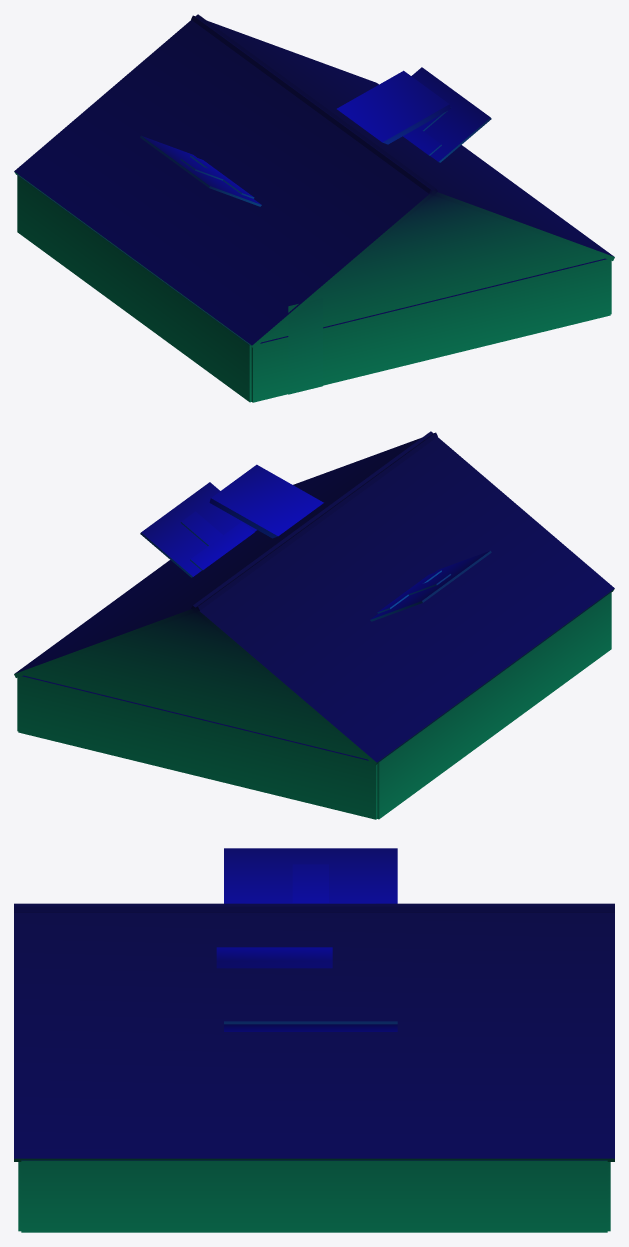
File: htent_damaged.glb
3 renders of one model, top to bottom at view 1: azimuth 30°, elevation 25°; view 2: azimuth 150°, elevation 25°; view 3: azimuth 270°, elevation 25°, orthographic. The views are drawn at different scales.
Parts seen in each view (by area): view 1: lod0; view 2: lod0; view 3: lod0.
Part boxes in pixels (left/top/right/bottom): lod0: left=14, top=14, right=614, bottom=402; lod0: left=14, top=431, right=614, bottom=819; lod0: left=14, top=848, right=614, bottom=1232.
Size of what is drawn, in the model's own units: 7.3 by 3.34 by 8.3.
